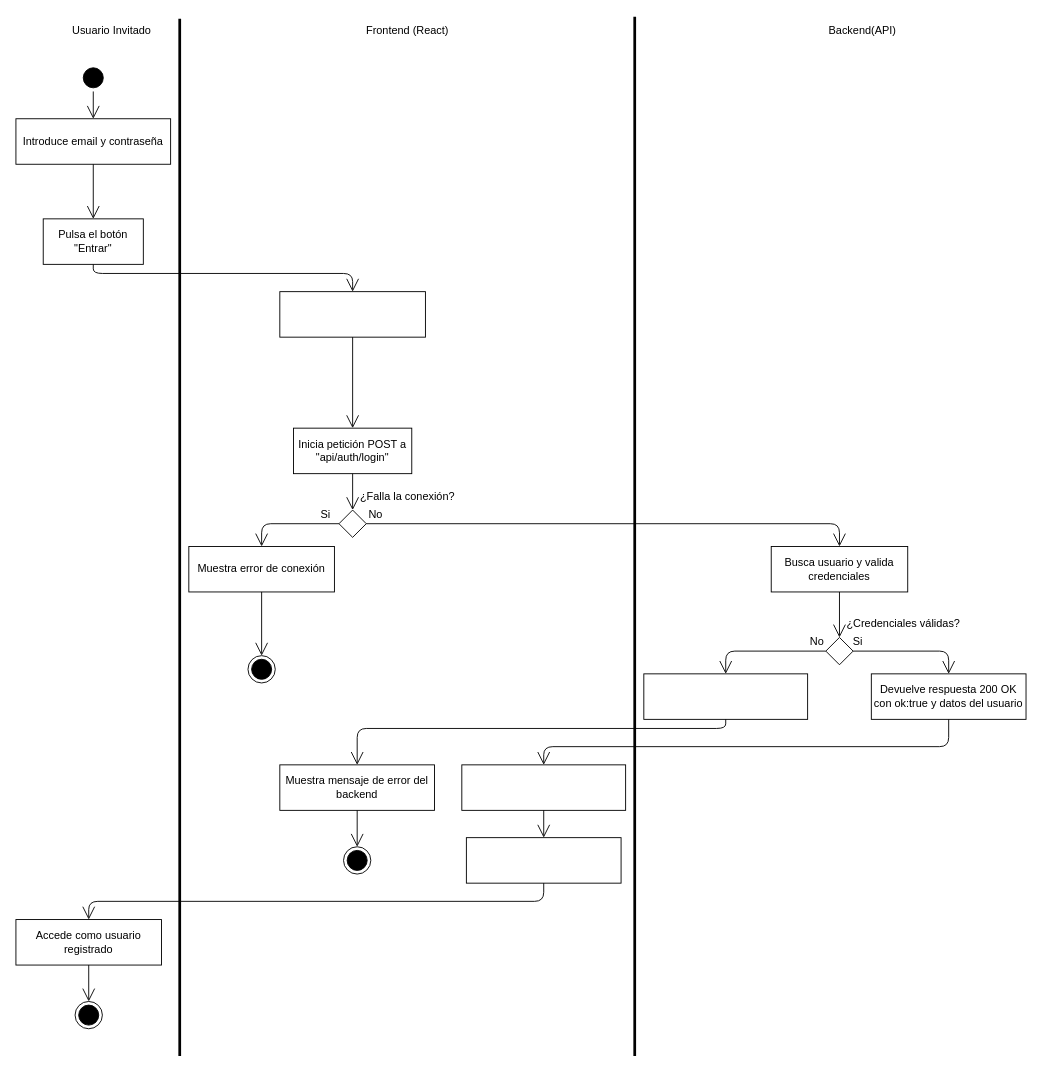
The diagram is 1042 pixels wide and 1074 high, and some of its shapes have lost their labels. The centre of each missing label's shape, as x and y in pixels:
"Devuelve respuesta con ok:false y mensaje de error" goes at (x=725, y=696).
"Guarda los datos del usuario en localStorage" goes at (x=543, y=787).
"Limpia los mensajes previos de error" goes at (x=352, y=314).
"Redirige a la pantalla de inicio" goes at (x=543, y=860).
